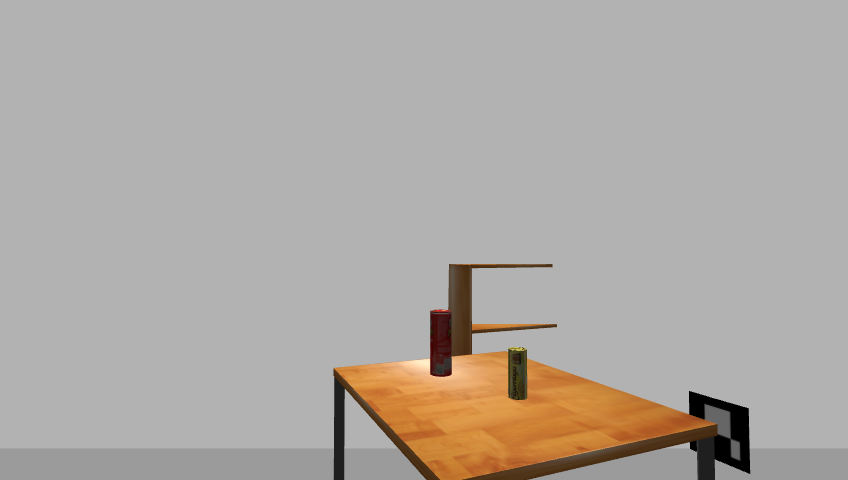aruco marker: (684, 390, 756, 476)
biscuits pack: (507, 347, 529, 402)
bookshelf: (445, 258, 559, 413)
dinner table: (325, 351, 726, 480)
pringles can: (427, 308, 454, 378)
